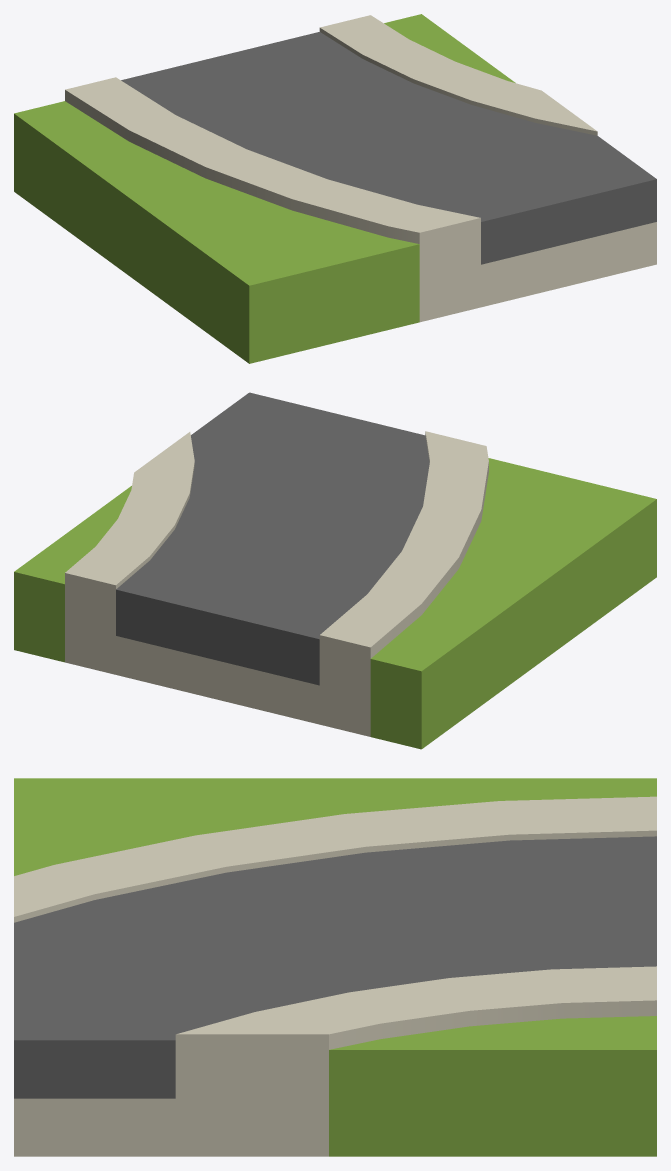
File: roadTile_041.obj
3 views of the same model, one above another, from view 1: azimuth 30°, elevation 25°; view 2: azimuth 150°, elevation 25°; view 3: azimuth 270°, elevation 25° (orthographic). The views are drawn at different scales.
Visible parts, largest first — view 1: roadTile_041; view 2: roadTile_041; view 3: roadTile_041.
Part boxes in pixels (x1,y1,x2,y2): roadTile_041: (14, 14, 656, 363); roadTile_041: (14, 392, 656, 749); roadTile_041: (14, 778, 656, 1156).
Bounding box in the file's own units: 3 × 0.63 × 3.
